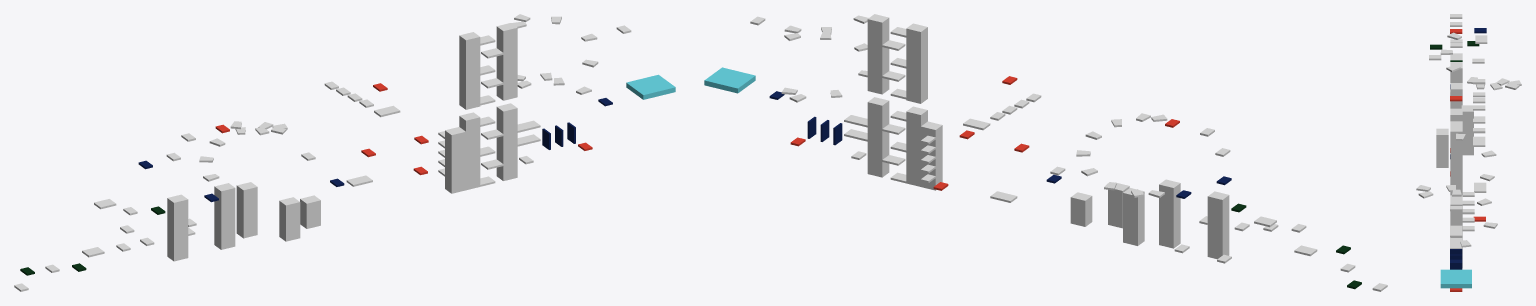
File: nivel01.fbx
3 views of the same model, side by side, from view 1: azimuth 30°, elevation 25°; view 2: azimuth 150°, elevation 25°; view 3: azimuth 270°, elevation 25° (orthographic). The views are drawn at different scales.
Visible parts, largest first — view 1: Cube.005, Cube.025, Cube.027, Cube.026, Cube.004, Cube.023, Cube.024, Cube.034, Cube.058, Cube.012, Cube.040; view 2: Cube.005, Cube.025, Cube.026, Cube.027, Cube.004, Cube.024, Cube.023, Cube.058, Cube.034, Cube.012, Cube.040, Cube.053; view 3: Cube.005, Cube.027, Cube.034, Cube.058, Cube.012, Cube.053, Cube.026, Cube.019, Cube.001, Cube.004, Cube.003, Cube.040 (+6 smaller).
Part boxes in pixels (box(x1,y1,x2,y2)): Cube.005: box(214, 182, 320, 249); Cube.025: box(459, 32, 480, 109); Cube.027: box(496, 23, 517, 100); Cube.026: box(496, 103, 517, 180); Cube.004: box(167, 194, 188, 261); Cube.023: box(445, 127, 465, 193); Cube.024: box(459, 112, 480, 190); Cube.034: box(511, 14, 598, 94); Cube.058: box(626, 74, 675, 99); Cube.012: box(199, 121, 287, 181); Cube.040: box(542, 122, 575, 149); Cube.005: box(1070, 179, 1180, 248); Cube.025: box(906, 23, 927, 103); Cube.026: box(867, 97, 889, 177); Cube.027: box(867, 14, 889, 94); Cube.004: box(1207, 191, 1229, 259); Cube.024: box(906, 106, 927, 186); Cube.023: box(921, 121, 942, 190); Cube.058: box(704, 67, 755, 93); Cube.034: box(781, 15, 868, 102); Cube.012: box(1076, 113, 1167, 197); Cube.040: box(807, 116, 842, 145); Cube.053: box(920, 135, 935, 182); Cube.005: box(1436, 83, 1473, 167); Cube.027: box(1450, 125, 1462, 194); Cube.034: box(1416, 133, 1497, 247); Cube.058: box(1440, 269, 1471, 288); Cube.012: box(1440, 32, 1521, 90); Cube.053: box(1462, 192, 1474, 231); Cube.026: box(1450, 198, 1462, 267); Cube.019: box(1473, 79, 1485, 123); Cube.001: box(1430, 39, 1479, 49); Cube.004: box(1450, 62, 1462, 82); Cube.003: box(1429, 55, 1484, 63); Cube.040: box(1450, 249, 1462, 269).
Bounding box in the file's own units: 16745 × 3696 × 2577.
